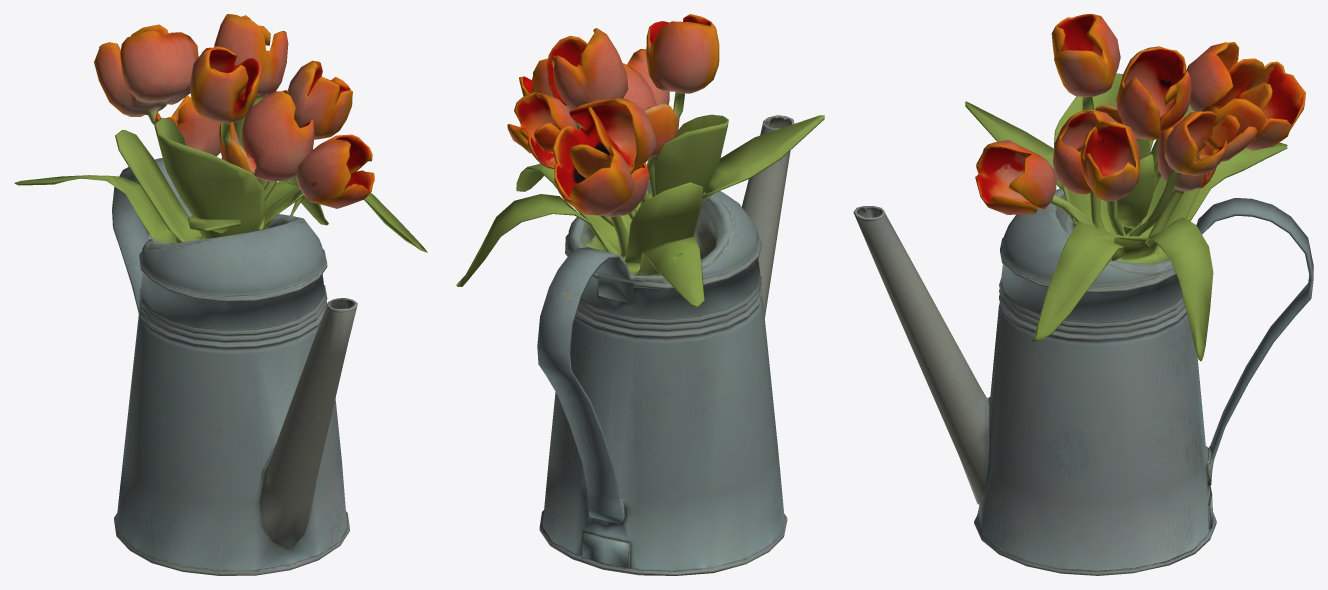
The model's file is watering_can_tulips.glb.
The picture shows the model from 3 angles, left to right: view 1: azimuth 30°, elevation 25°; view 2: azimuth 150°, elevation 25°; view 3: azimuth 270°, elevation 25°; orthographic projection. The views are drawn at different scales.
Parts seen in each view (by area): view 1: tripo_node_862f92bb-2487-46b5-b23d-d1ac731d4643; view 2: tripo_node_862f92bb-2487-46b5-b23d-d1ac731d4643; view 3: tripo_node_862f92bb-2487-46b5-b23d-d1ac731d4643.
Boxes of the visible parts, <box> form: tripo_node_862f92bb-2487-46b5-b23d-d1ac731d4643: <box>14,14,427,575</box>; tripo_node_862f92bb-2487-46b5-b23d-d1ac731d4643: <box>456,14,824,575</box>; tripo_node_862f92bb-2487-46b5-b23d-d1ac731d4643: <box>853,14,1313,575</box>.
Bounding box in the file's own units: 0.6298 × 0.9995 × 0.8352.
Materials: 1 (1 with a texture image).
